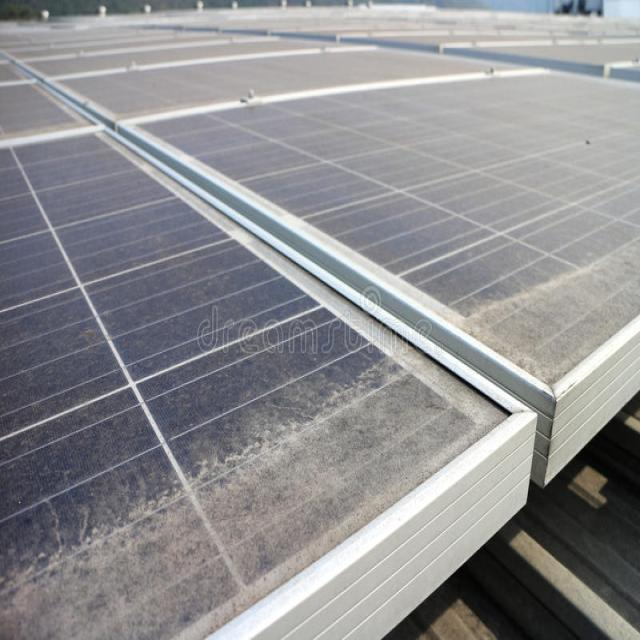dust-solar-panel: (0, 2, 640, 640)
